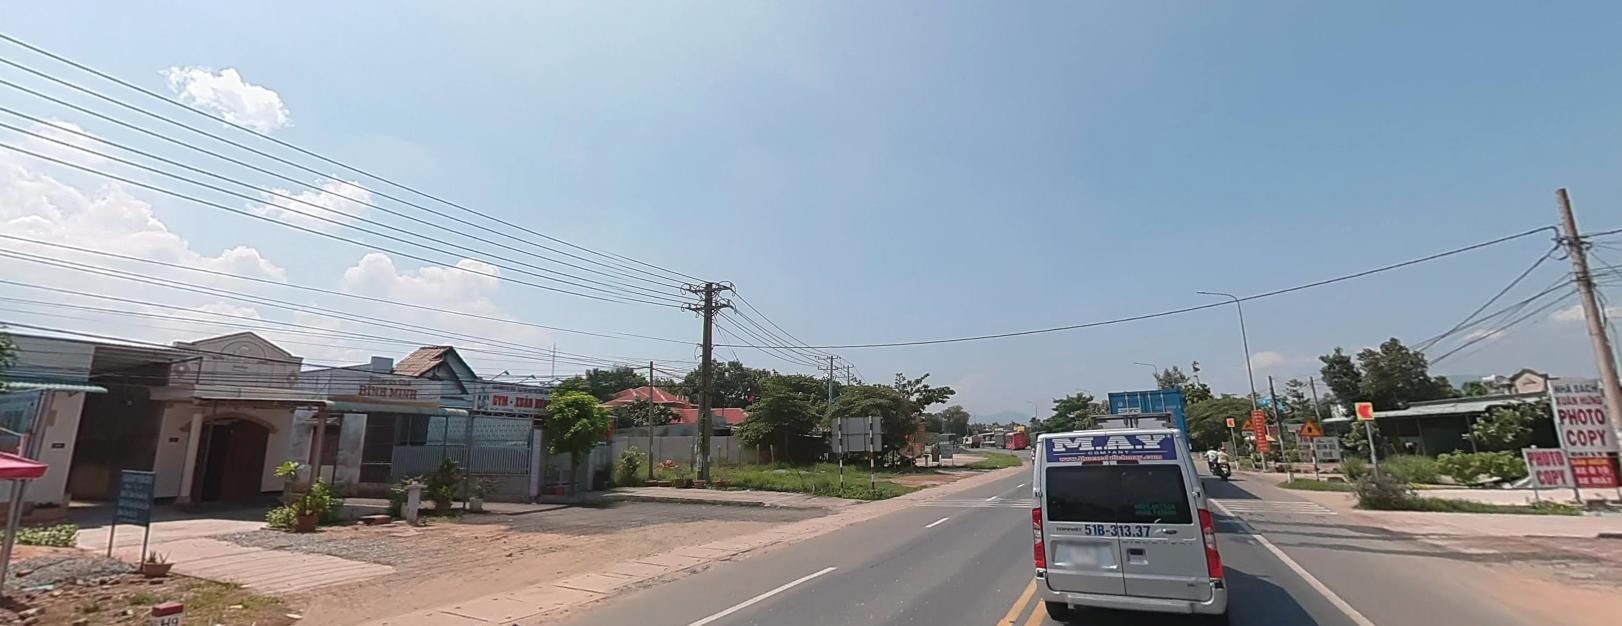Nguy hiem: (1298, 415, 1323, 435), (1297, 416, 1323, 435), (1299, 417, 1322, 435), (1299, 417, 1322, 434), (1241, 417, 1256, 429), (1240, 417, 1254, 428), (1241, 416, 1253, 428)
